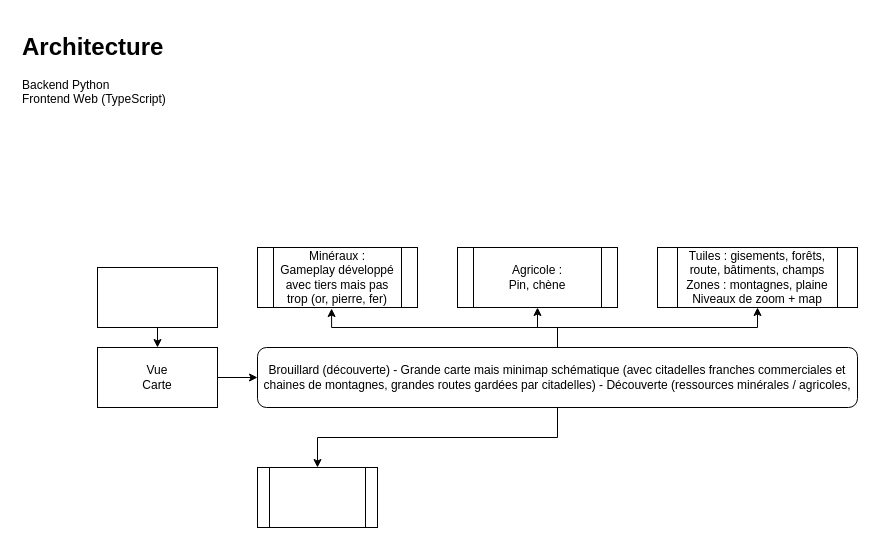
Some shapes in this 875 by 545 pixel diagram are drawn without their labels. Each missing label, with the centre of its shape:
Gameplay alliance intégré (armées) avec interalliances: point (317, 497)
Login (signup): point (157, 297)
